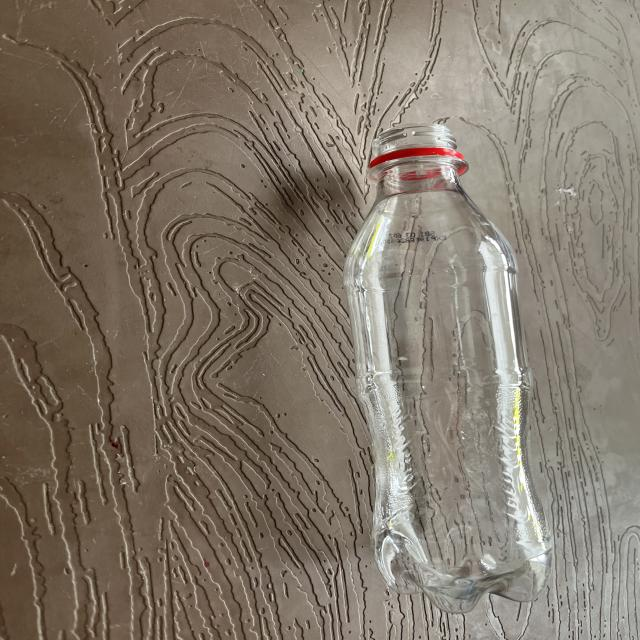PET_With_Cap: (334, 121, 568, 614)
